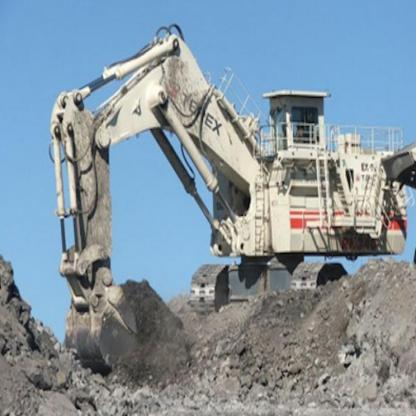excavator: (38, 17, 416, 373)
